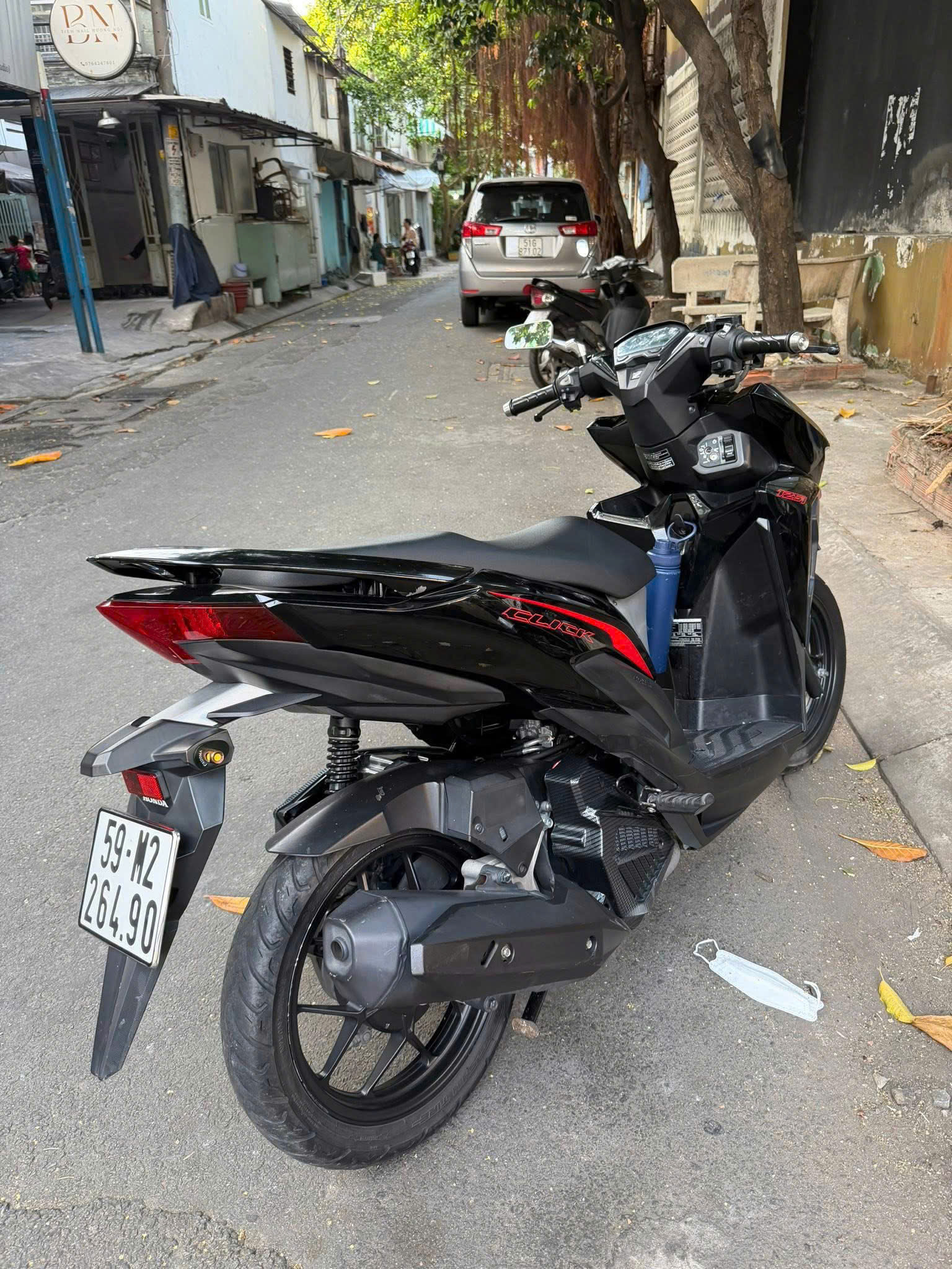Bien-so: (75, 806, 178, 981), (520, 234, 546, 259)
